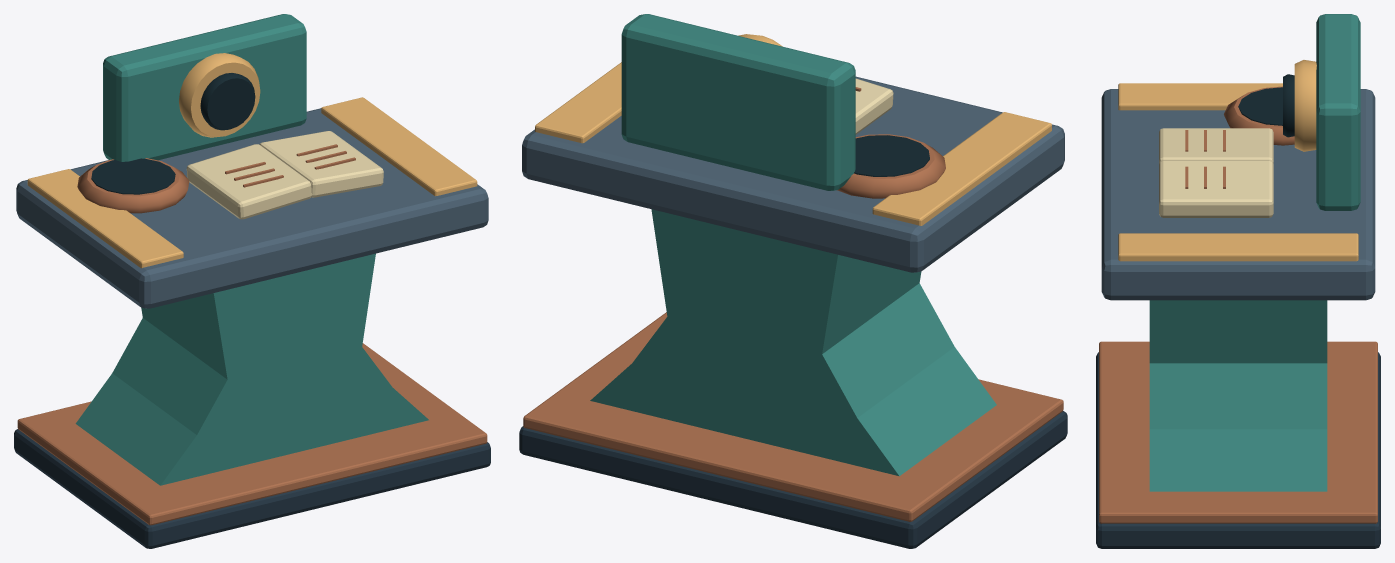
The picture shows the model from 3 angles, left to right: view 1: azimuth 30°, elevation 25°; view 2: azimuth 150°, elevation 25°; view 3: azimuth 270°, elevation 25°; orthographic projection. The views are drawn at different scales.
Visible parts, largest first — view 1: PR049 enamel and hardware; view 2: PR049 enamel and hardware; view 3: PR049 enamel and hardware.
Part boxes in pixels (x1=…): PR049 enamel and hardware: x1=14, y1=14, x2=490, y2=548; PR049 enamel and hardware: x1=519, y1=14, x2=1067, y2=548; PR049 enamel and hardware: x1=1096, y1=14, x2=1380, y2=548.
Bounding box in the file's own units: 1.18 × 1.25 × 0.7988.
